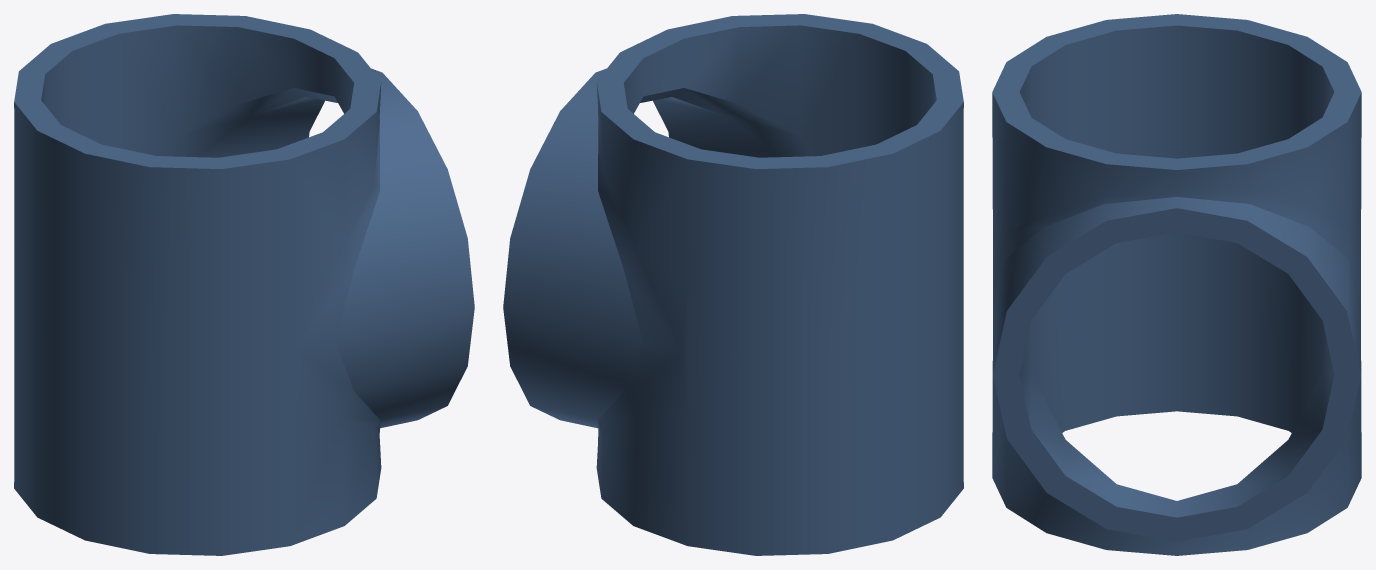
The model's file is quaternius-platformer-game-pipe-t.glb.
The picture shows the model from 3 angles, left to right: view 1: azimuth 30°, elevation 25°; view 2: azimuth 150°, elevation 25°; view 3: azimuth 270°, elevation 25°; orthographic projection.
Visible parts, largest first — view 1: Pipe_T; view 2: Pipe_T; view 3: Pipe_T.
Part boxes in pixels (box(x1,y1,x2,y2)): Pipe_T: box(14, 14, 474, 555); Pipe_T: box(503, 14, 963, 555); Pipe_T: box(992, 14, 1361, 555).
Bounding box in the file's own units: 1.87 × 2 × 1.74.
